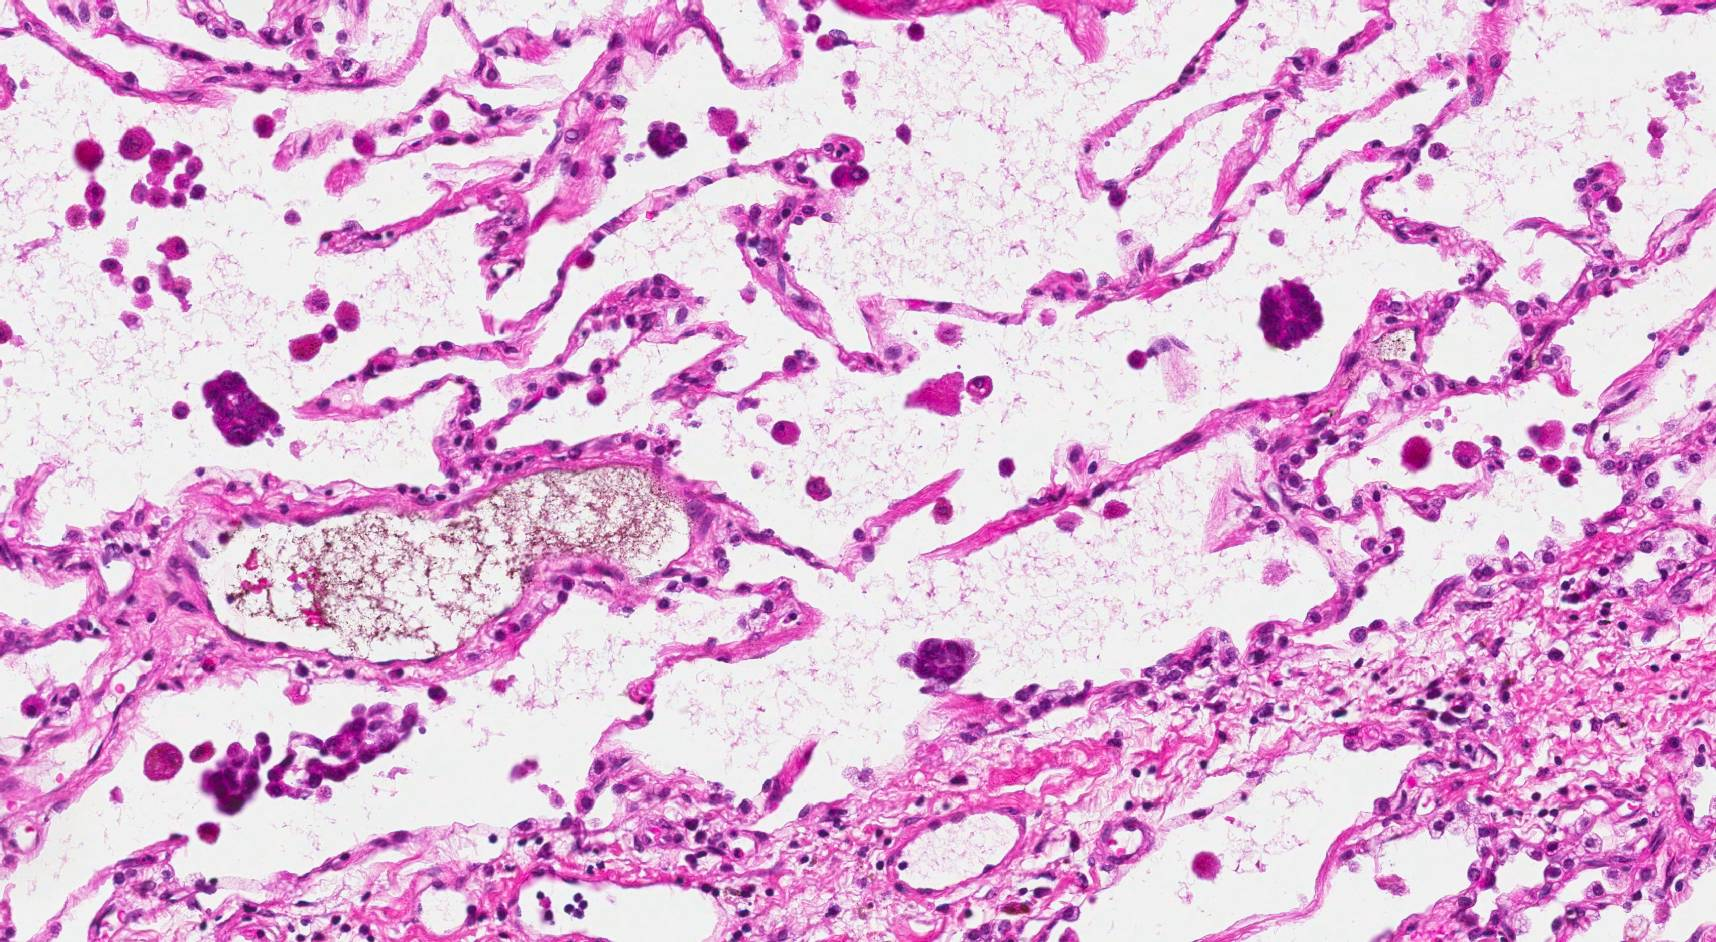stas: (261, 703, 430, 802), (190, 723, 279, 823), (198, 361, 286, 450), (1251, 276, 1330, 350), (888, 637, 989, 687), (639, 112, 697, 162)
